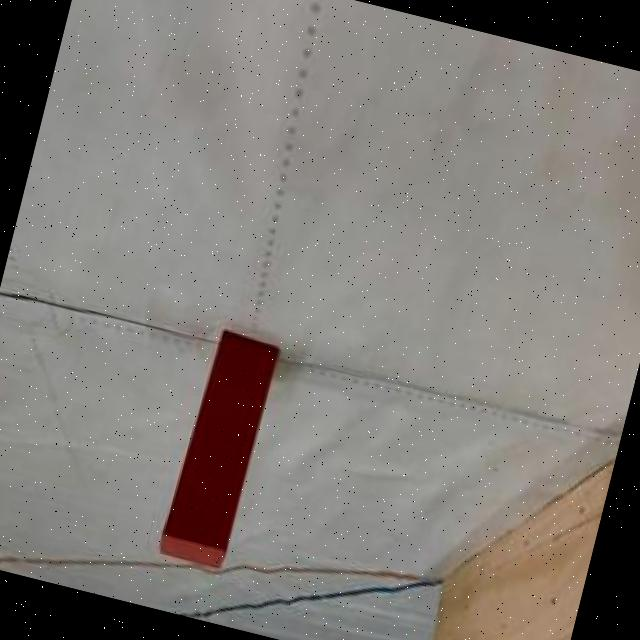redbox: (154, 324, 282, 575)
